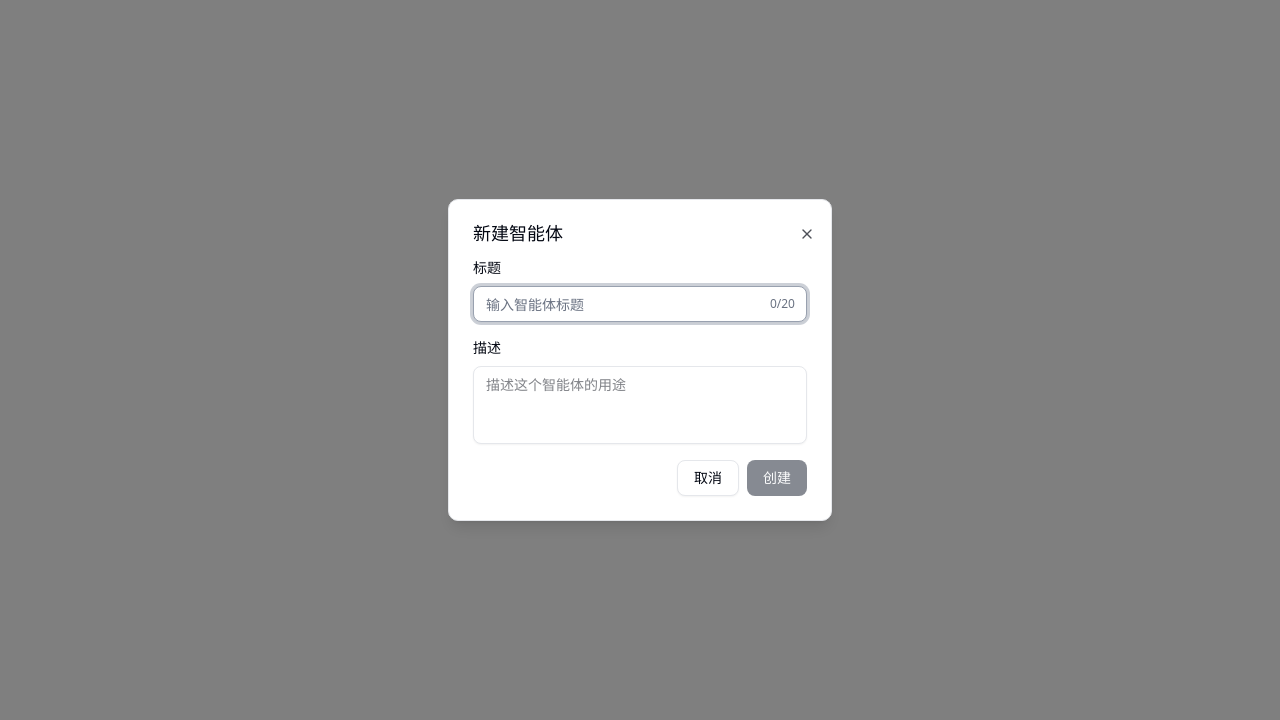
Test: NewAgentDialog i18n 与错误处理 › 后端返回空错误且无 error_code 时回退到通用创建失败文案
Type "测试" into the field labelled "标题" at (640, 304), box [473,286,807,322]
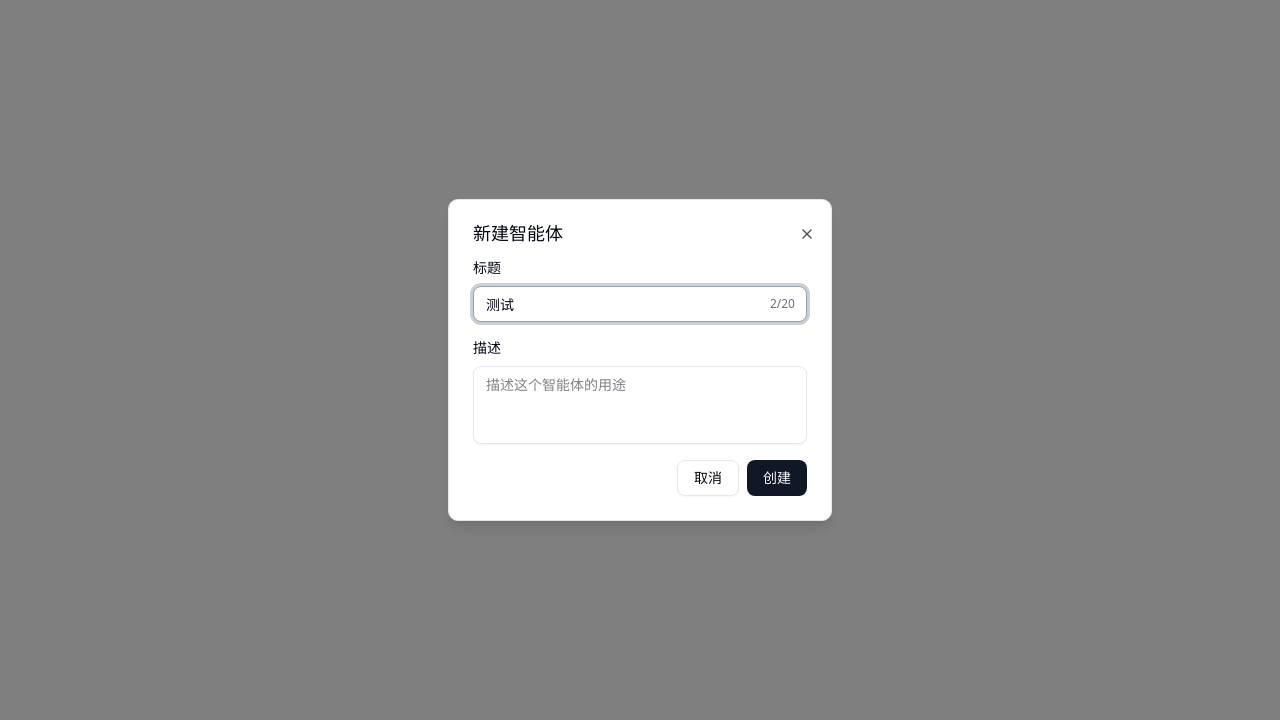
Click the button "创建" at (777, 478), box [747,460,807,496]
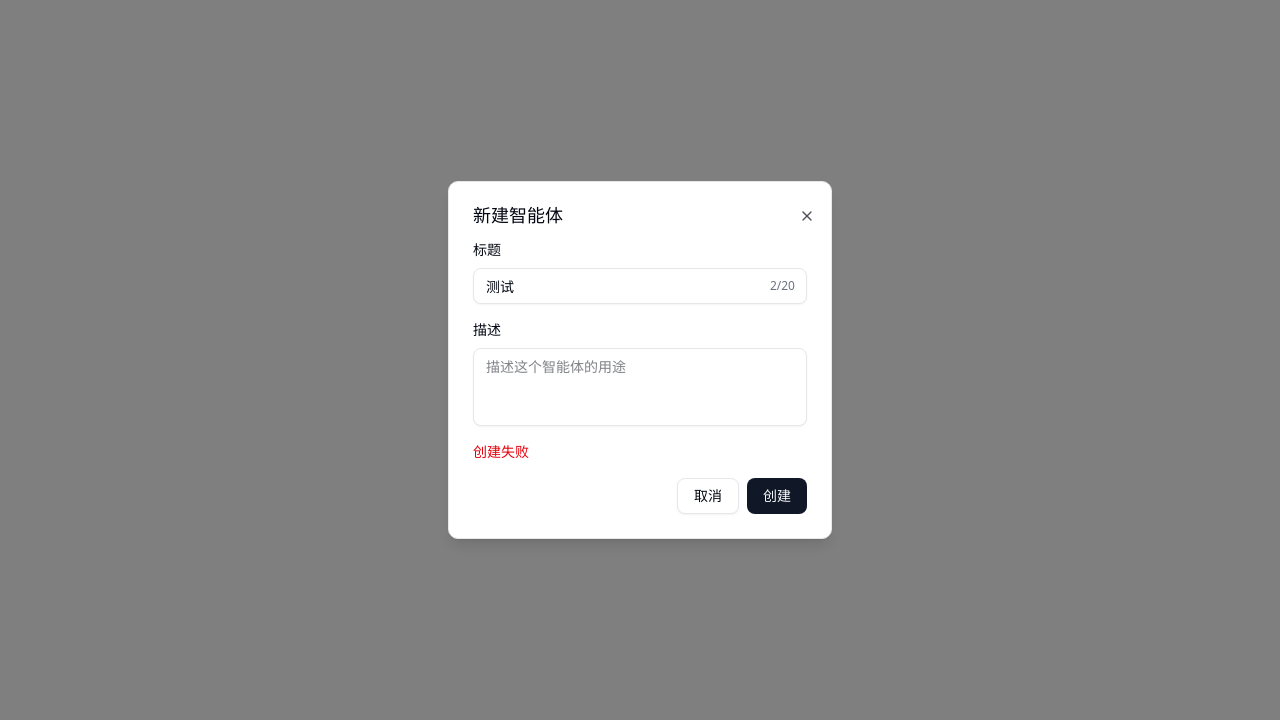
Expected: the text "创建失败" is shown, [473,442,529,461]
